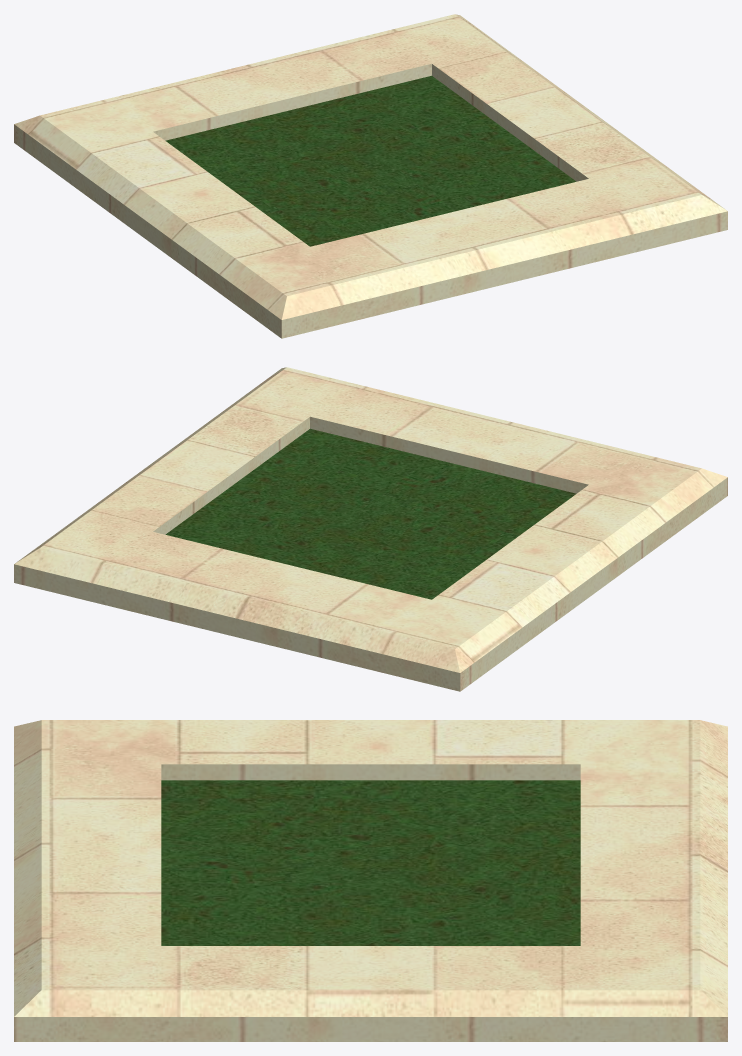
Rendered from SM_garden_small.glb.
3 views of the same model, one above another, from view 1: azimuth 30°, elevation 25°; view 2: azimuth 150°, elevation 25°; view 3: azimuth 270°, elevation 25° (orthographic). The views are drawn at different scales.
Visible parts, largest first — view 1: SM_garden_small; view 2: SM_garden_small; view 3: SM_garden_small.
Part boxes in pixels (bbox=[...]): SM_garden_small: bbox=[14, 14, 727, 338]; SM_garden_small: bbox=[14, 367, 727, 691]; SM_garden_small: bbox=[14, 720, 727, 1041].
Size of the model in its own units: 2.01 by 0.134 by 2.09.
Materials: 2 (2 with a texture image).
